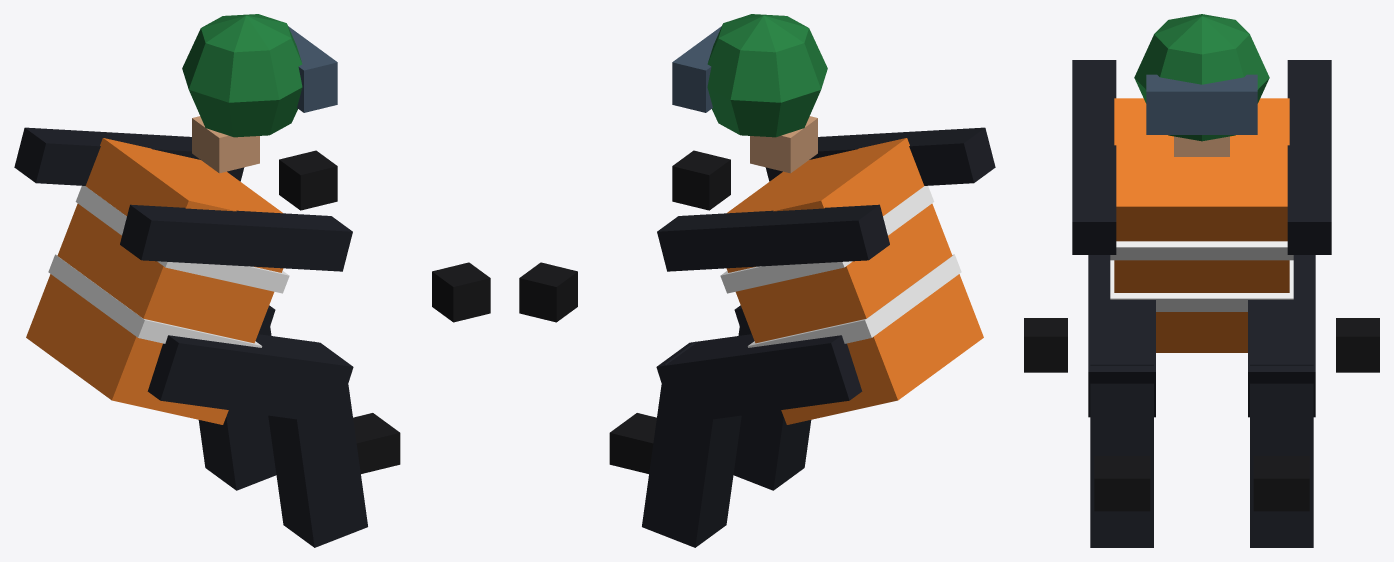
File: jetski_rider_verde.obj
3 renders of one model, left to right at view 1: azimuth 30°, elevation 25°; view 2: azimuth 150°, elevation 25°; view 3: azimuth 270°, elevation 25°, orthographic. The views are drawn at different scales.
Parts seen in each view (by area): view 1: jetski_rider_verde; view 2: jetski_rider_verde; view 3: jetski_rider_verde.
Boxes of the visible parts, left/top/right/bottom form: jetski_rider_verde: left=14, top=14, right=490, bottom=547; jetski_rider_verde: left=519, top=14, right=995, bottom=547; jetski_rider_verde: left=1024, top=14, right=1379, bottom=547.
Bounding box in the file's own units: 0.9894 × 1.4 × 0.893.
